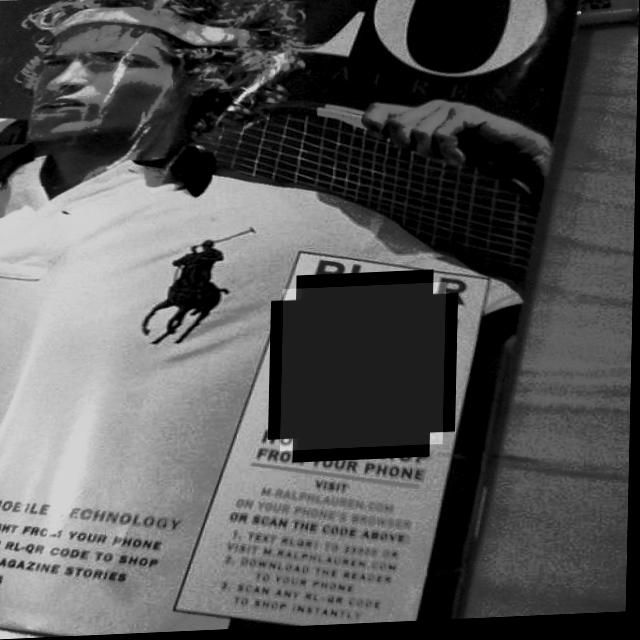qr_code: (282, 286, 448, 454)
